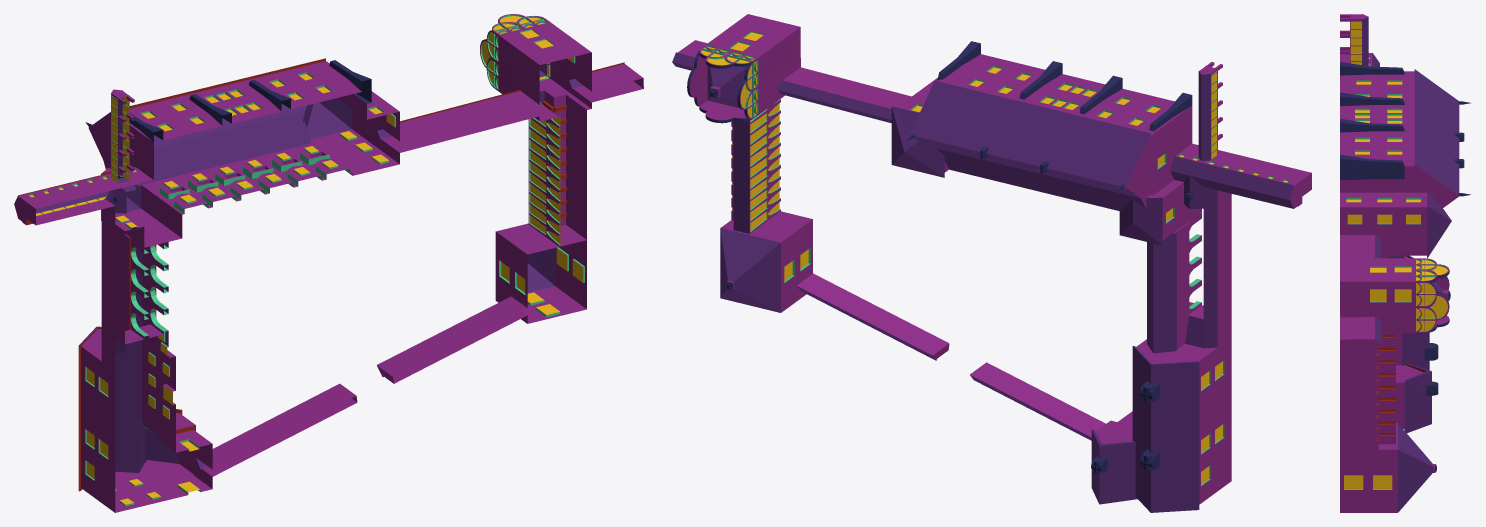
Rendered from zamekV2.fbx.
3 renders of one model, left to right at view 1: azimuth 30°, elevation 25°; view 2: azimuth 150°, elevation 25°; view 3: azimuth 270°, elevation 25°, orthographic. The views are drawn at different scales.
Parts seen in each view (by area): view 1: Zamek_zamek_bez_bramy; view 2: Zamek_zamek_bez_bramy; view 3: Zamek_zamek_bez_bramy.
Part boxes in pixels (x1,y1,x2,y2): Zamek_zamek_bez_bramy: [14, 14, 643, 512]; Zamek_zamek_bez_bramy: [672, 14, 1311, 512]; Zamek_zamek_bez_bramy: [1340, 14, 1470, 512].
Bounding box in the file's own units: 3.84 × 2.5 × 0.7897.
